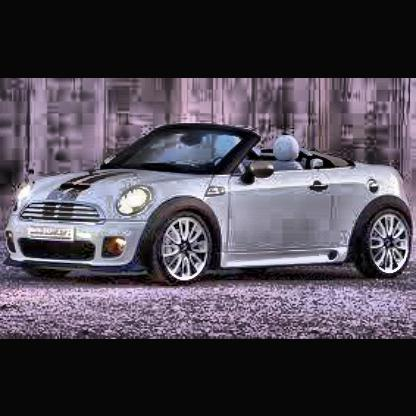MINI Cooper Roadster Convertible 2012: (6, 124, 416, 291)
